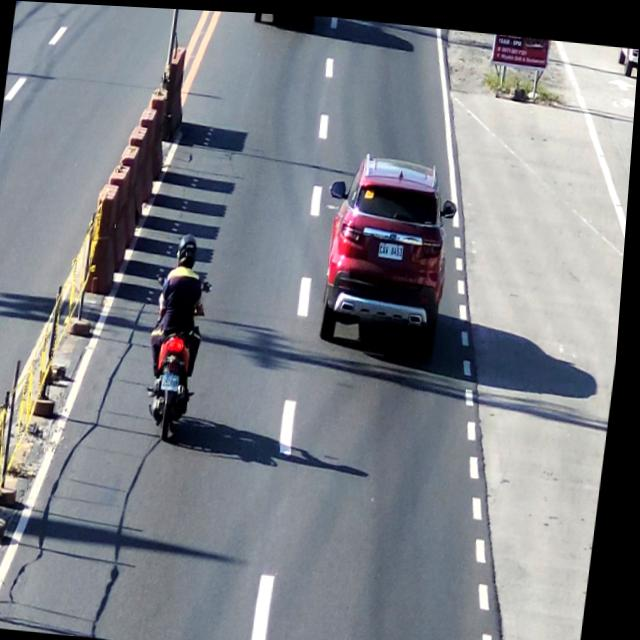Car: (320, 151, 464, 363)
License-Plate: (378, 232, 412, 260), (166, 371, 187, 391)
Motorcycle: (145, 234, 222, 445)
